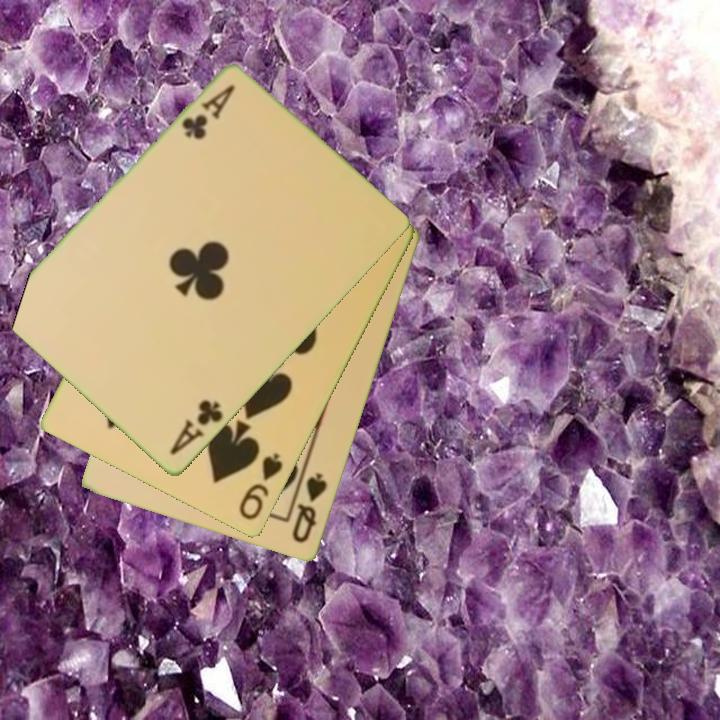9s: (235, 450, 286, 524)
Ac: (166, 396, 226, 459), (178, 82, 238, 144)
Qs: (289, 469, 331, 547)
